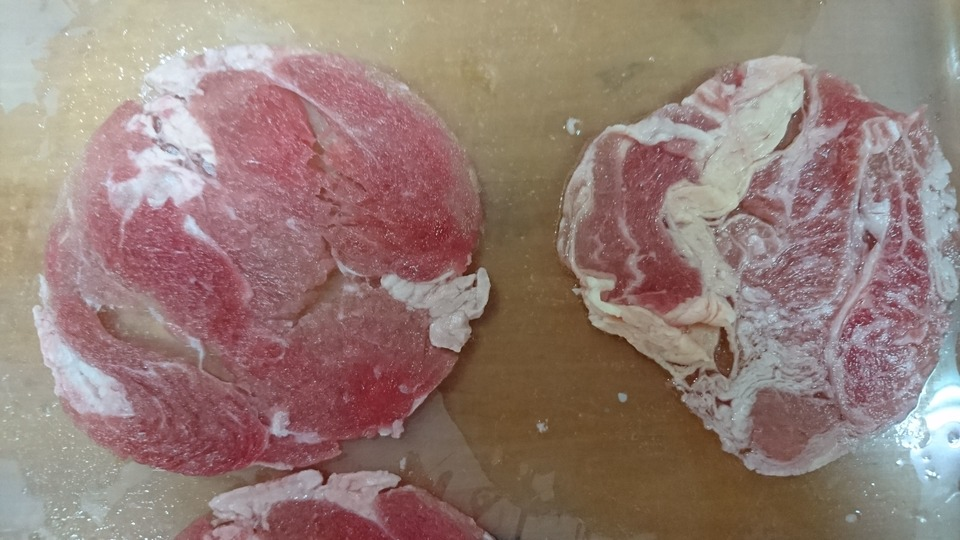restructured meat: (13, 30, 495, 463), (533, 45, 960, 464)
